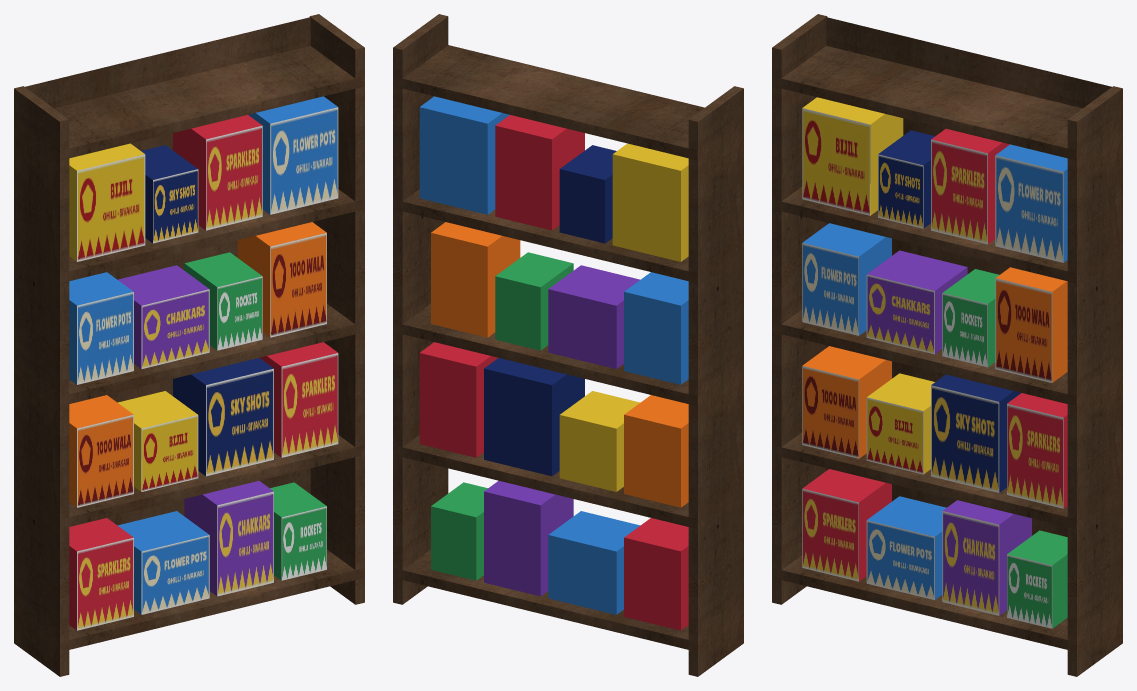
The model's file is shelf.glb.
3 renders of one model, left to right at view 1: azimuth 30°, elevation 25°; view 2: azimuth 150°, elevation 25°; view 3: azimuth 330°, elevation 25°, orthographic.
Parts seen in each view (by area): view 1: shelf_0, shelf_3, shelf_1, shelf_11, shelf_9, shelf_5, shelf_13, shelf_4, shelf_2, shelf_7, shelf_6, shelf_10 (+3 smaller); view 2: shelf_0, shelf_4, shelf_2, shelf_6, shelf_10, shelf_12, shelf_14, shelf_8; view 3: shelf_0, shelf_3, shelf_1, shelf_11, shelf_9, shelf_5, shelf_13, shelf_4, shelf_7, shelf_2, shelf_6, shelf_10 (+3 smaller).
Boxes of the visible parts, box(x1,y1,x2,y2) form: shelf_0: box(14, 14, 364, 676); shelf_3: box(77, 107, 338, 614); shelf_1: box(77, 125, 338, 630); shelf_11: box(77, 154, 198, 491); shelf_9: box(77, 233, 326, 507); shelf_5: box(141, 289, 273, 596); shelf_13: box(153, 169, 273, 476); shelf_4: box(69, 96, 337, 614); shelf_2: box(69, 115, 337, 630); shelf_7: box(217, 276, 326, 580); shelf_6: box(118, 265, 273, 595); shelf_10: box(69, 222, 326, 507); shelf_0: box(393, 14, 743, 676); shelf_4: box(419, 96, 688, 614); shelf_2: box(419, 115, 688, 630); shelf_6: box(484, 265, 639, 596); shelf_10: box(431, 222, 688, 507); shelf_12: box(559, 143, 688, 491); shelf_14: box(484, 145, 616, 476); shelf_8: box(431, 252, 573, 580); shelf_0: box(772, 14, 1122, 676); shelf_3: box(802, 155, 1063, 599); shelf_1: box(802, 139, 1063, 581); shelf_11: box(802, 108, 923, 474); shelf_9: box(802, 278, 1052, 458); shelf_5: box(866, 274, 999, 615); shelf_13: box(878, 154, 999, 492); shelf_4: box(802, 144, 1067, 599); shelf_7: box(942, 293, 1052, 628); shelf_2: box(802, 128, 1067, 581); shelf_6: box(867, 250, 1031, 615); shelf_10: box(802, 267, 1067, 458).
Size of the model in its own units: 1.61 by 2.8 by 0.42.
15 materials, 15 textured.
